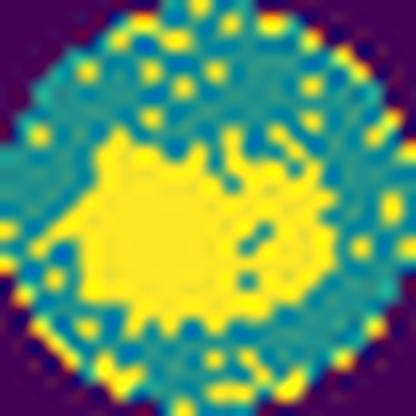Center: (79, 125, 340, 336)
